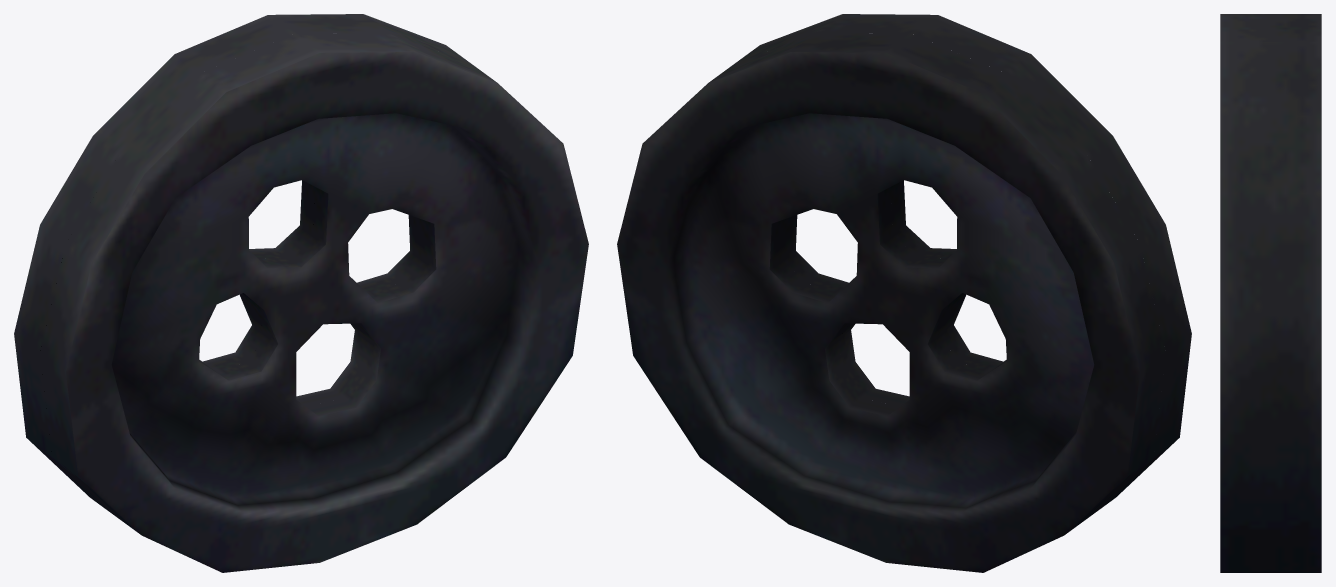
The model's file is list.ico.obj.
The picture shows the model from 3 angles, left to right: view 1: azimuth 30°, elevation 25°; view 2: azimuth 150°, elevation 25°; view 3: azimuth 270°, elevation 25°; orthographic projection. The views are drawn at different scales.
Size of the model in its own units: 3.12 by 2.91 by 0.5369.
1 material, 1 textured.
